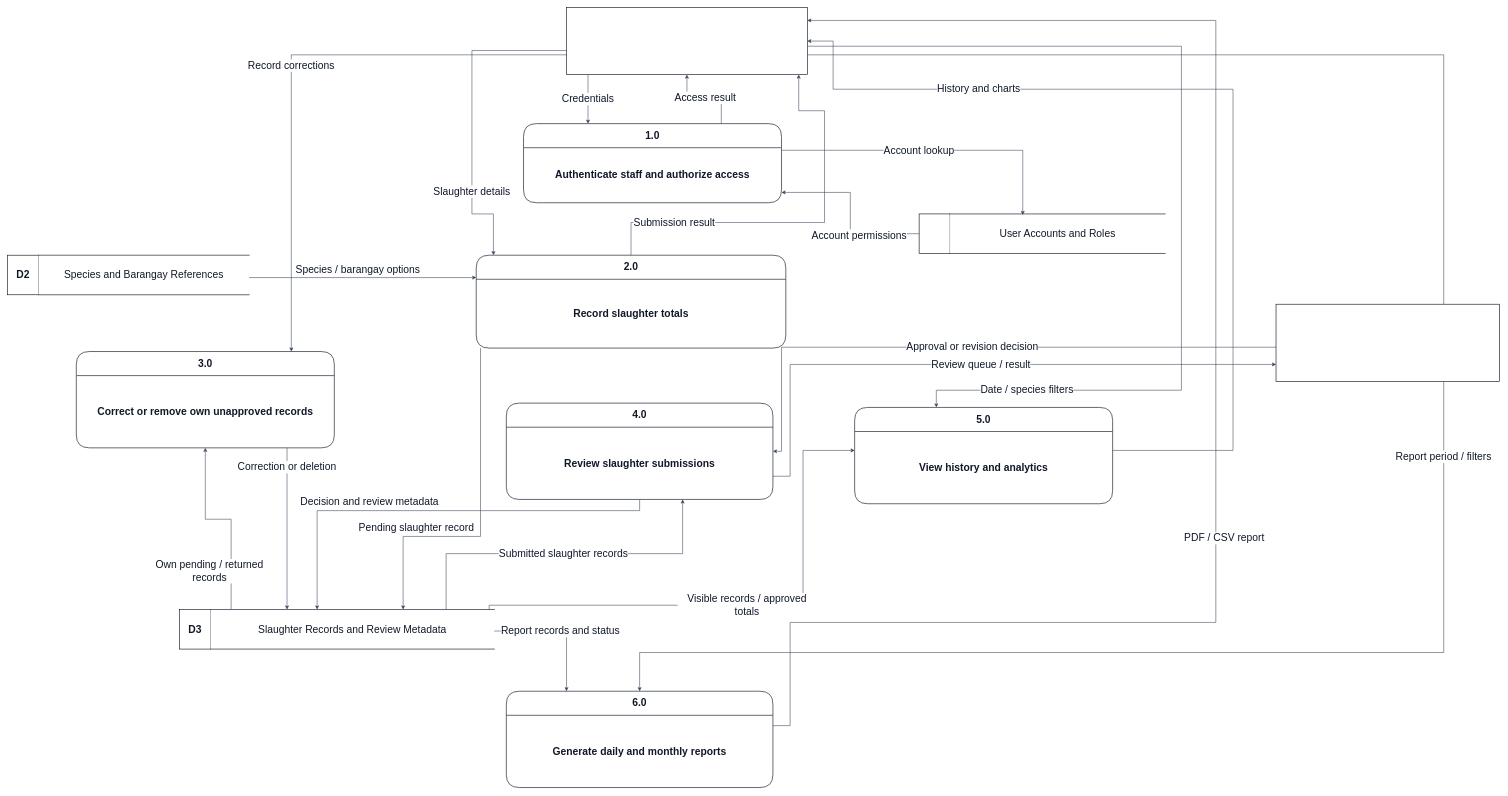
The diagram is 1508 pixels wide and 796 high, and some of its shapes have lost their labels. Each missing label, with the centre of its shape:
"D1" belongs at point 934,233.
"MAO / ADMIN" belongs at point 1388,343.
"SLAUGHTERHOUSE STAFF" belongs at point 686,41.
